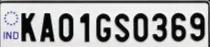0: (57, 11, 74, 43), (132, 11, 149, 43)
1: (78, 10, 92, 45)
3: (150, 9, 168, 45)
6: (170, 11, 189, 43)
9: (188, 8, 206, 42)
A: (38, 11, 56, 44)
G: (94, 11, 113, 44)
K: (18, 11, 37, 43)
S: (114, 10, 130, 44)
